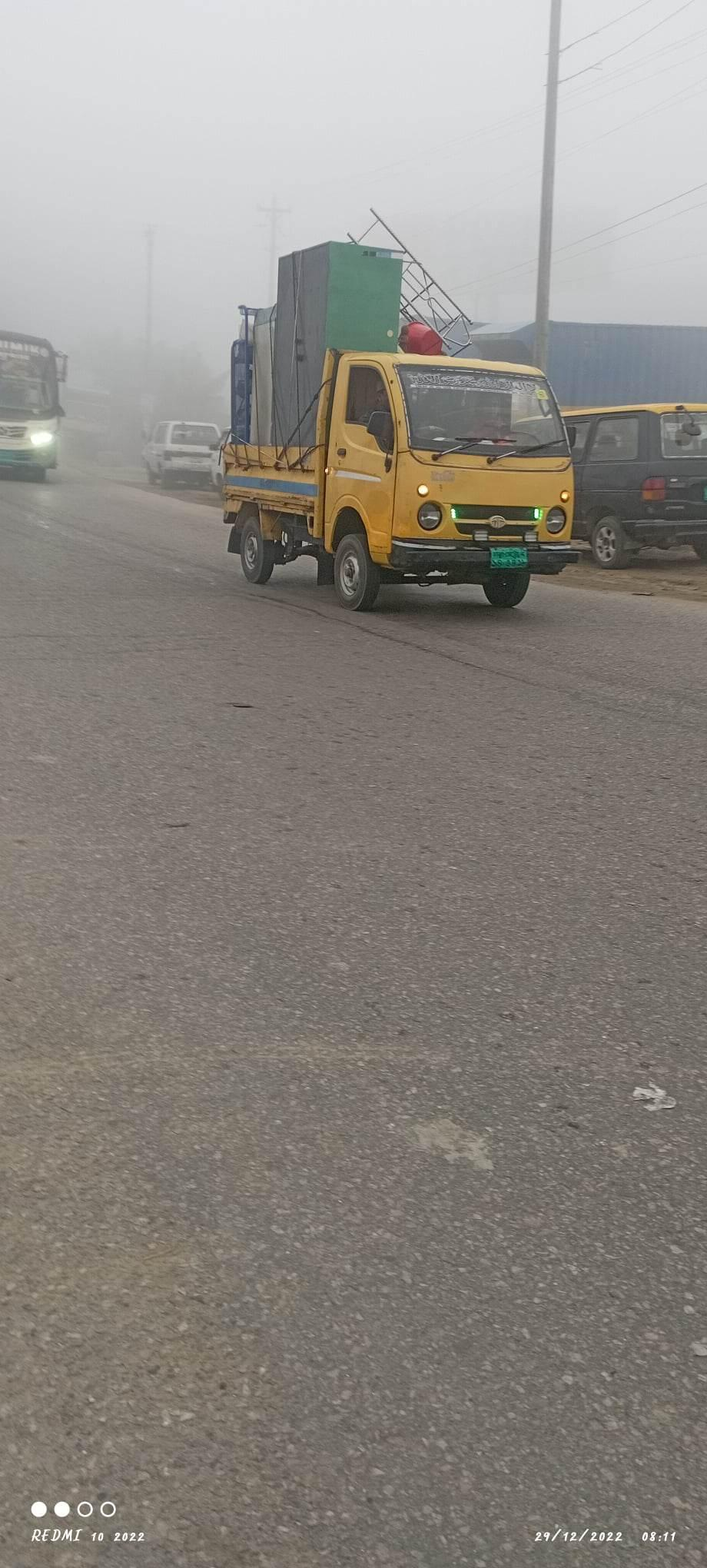Bus: (1, 316, 83, 496)
Car: (563, 381, 707, 589), (131, 409, 227, 494)
Truck: (183, 233, 593, 681)
